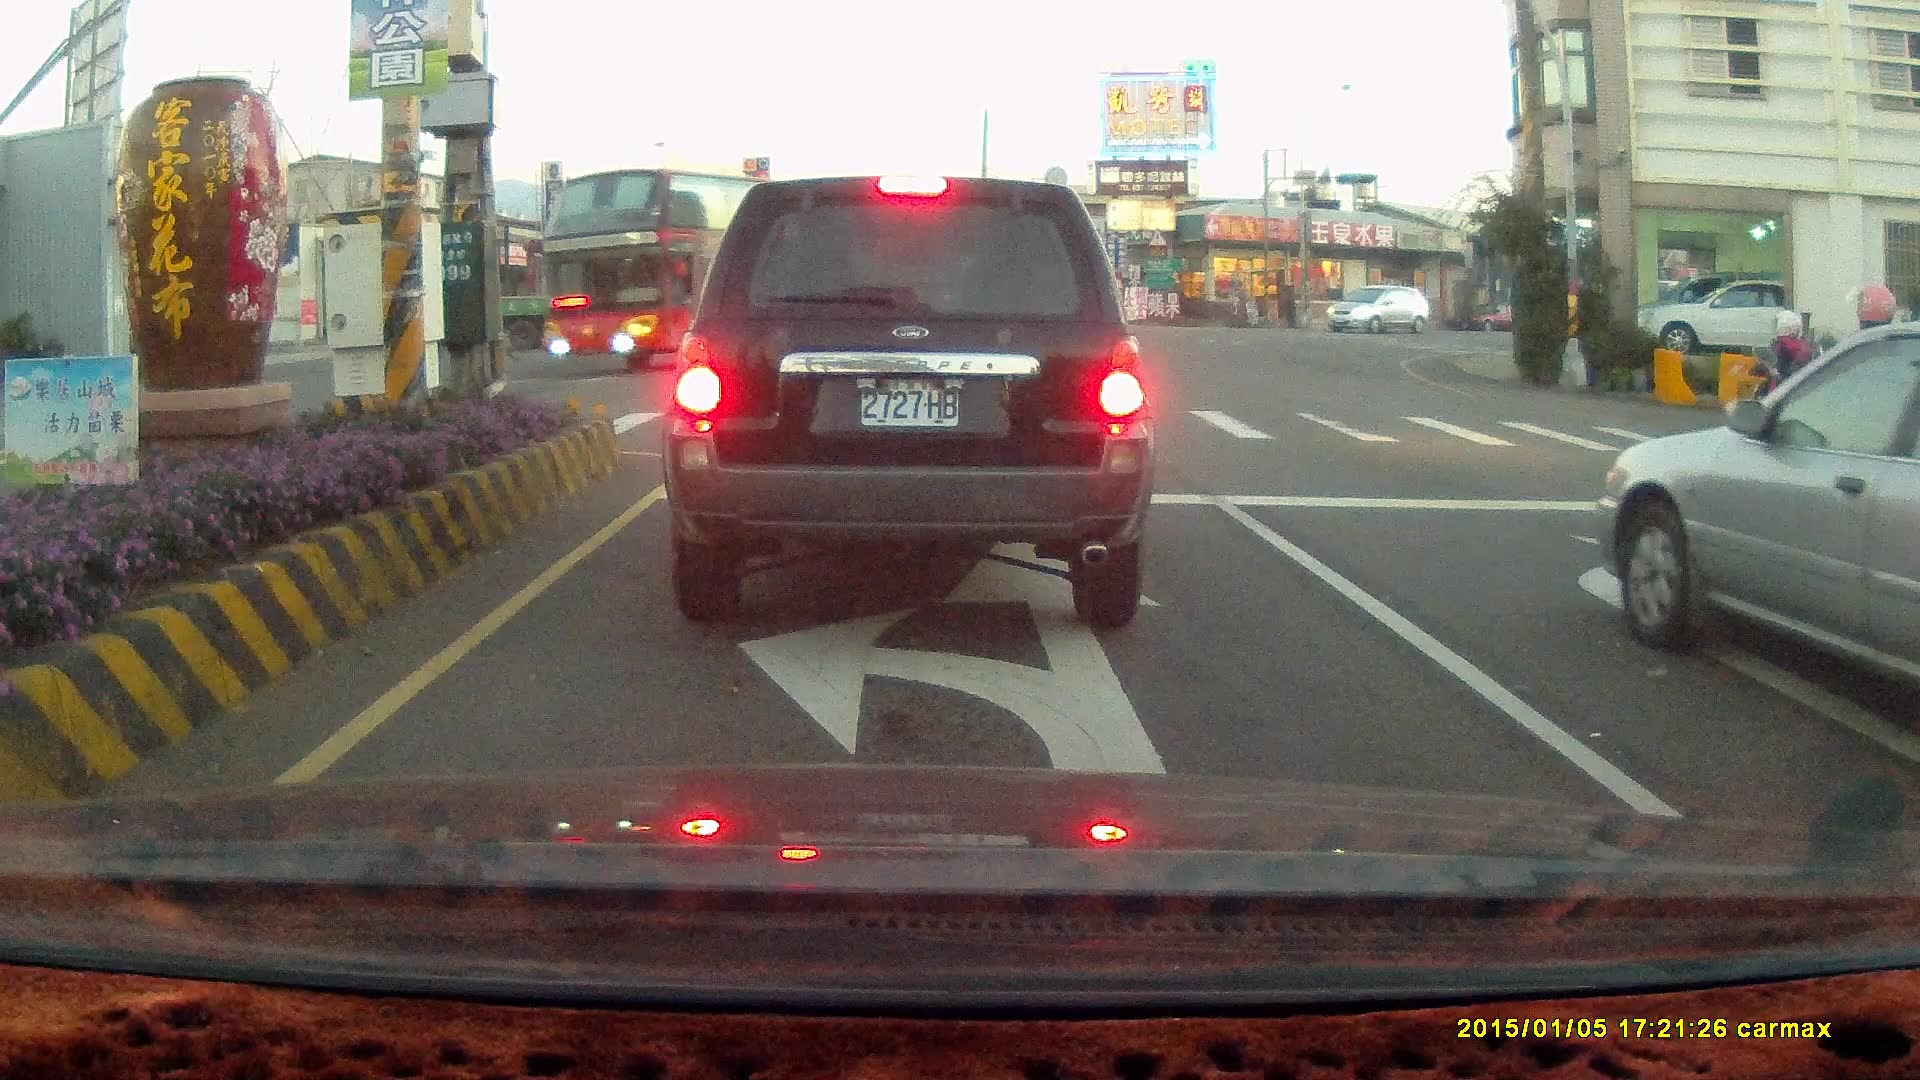rider: (1730, 307, 1824, 453)
vehicle: (659, 173, 1155, 630), (1585, 318, 1920, 731), (1598, 322, 1920, 703), (506, 254, 704, 347), (1629, 275, 1834, 358), (1642, 275, 1784, 356), (1896, 493, 1920, 836), (1326, 285, 1433, 340)
